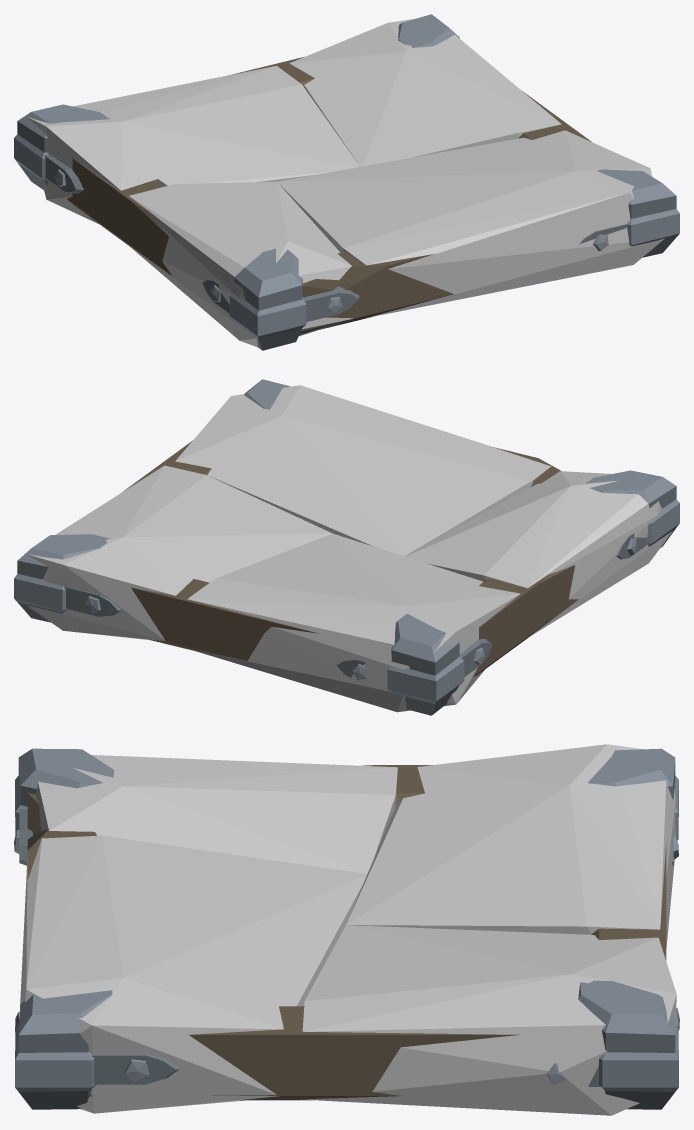
The model's file is SM_Prop_Crate08_lid.fbx.
3 renders of one model, top to bottom at view 1: azimuth 30°, elevation 25°; view 2: azimuth 150°, elevation 25°; view 3: azimuth 270°, elevation 25°, orthographic. The views are drawn at different scales.
Visible parts, largest first — view 1: SM_Prop_Crate08_lid_ConvexHulls, SM_Prop_Crate08_lid; view 2: SM_Prop_Crate08_lid_ConvexHulls, SM_Prop_Crate08_lid; view 3: SM_Prop_Crate08_lid_ConvexHulls, SM_Prop_Crate08_lid.
Part boxes in pixels (x1,y1,x2,y2): SM_Prop_Crate08_lid_ConvexHulls: (26,19,664,346); SM_Prop_Crate08_lid: (14,14,679,350); SM_Prop_Crate08_lid_ConvexHulls: (26,385,672,712); SM_Prop_Crate08_lid: (14,379,679,715); SM_Prop_Crate08_lid_ConvexHulls: (20,744,676,1115); SM_Prop_Crate08_lid: (14,748,679,1109).
Size of the model in its own units: 91.01 by 91.01 by 15.01.
2 materials, 1 textured.
